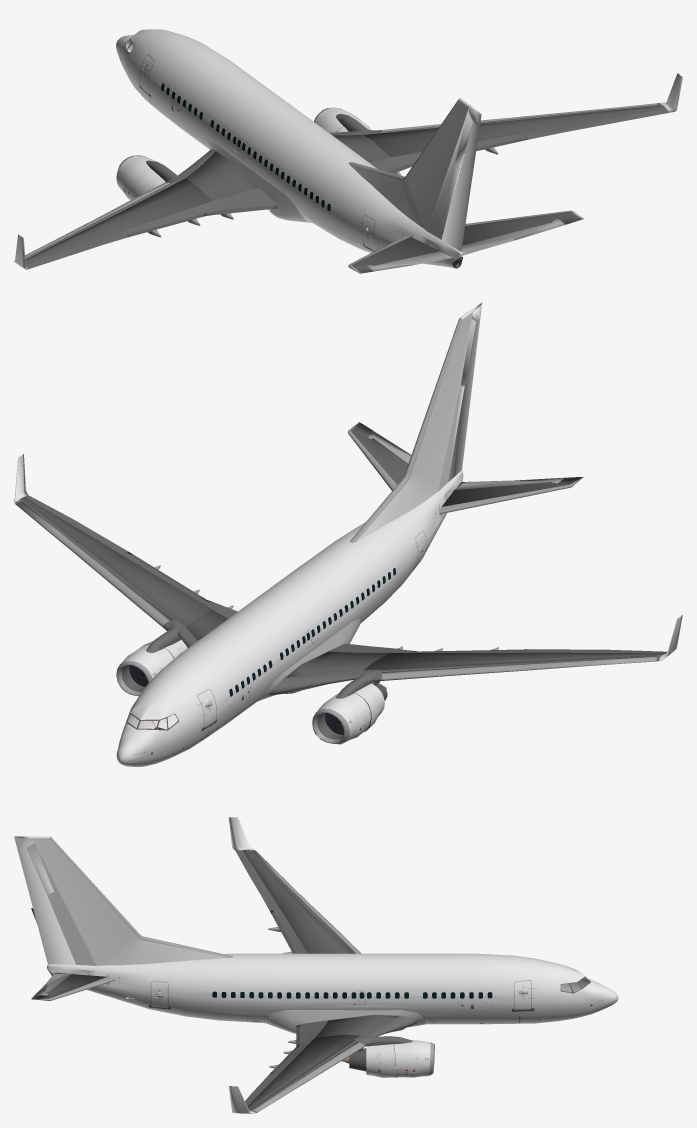
3 renders of one model, top to bottom at view 1: azimuth 30°, elevation 25°; view 2: azimuth 150°, elevation 25°; view 3: azimuth 270°, elevation 25°, orthographic. The views are drawn at different scales.
Visible parts, largest first — view 1: rootNode; view 2: rootNode; view 3: rootNode.
Boxes of the visible parts, x1=… form: rootNode: x1=14, y1=29, x2=682, y2=273; rootNode: x1=14, y1=302, x2=682, y2=766; rootNode: x1=14, y1=817, x2=618, y2=1113.
Bounding box in the file's own units: 34.85 × 12.04 × 36.64.
93 materials, 18 textured.
